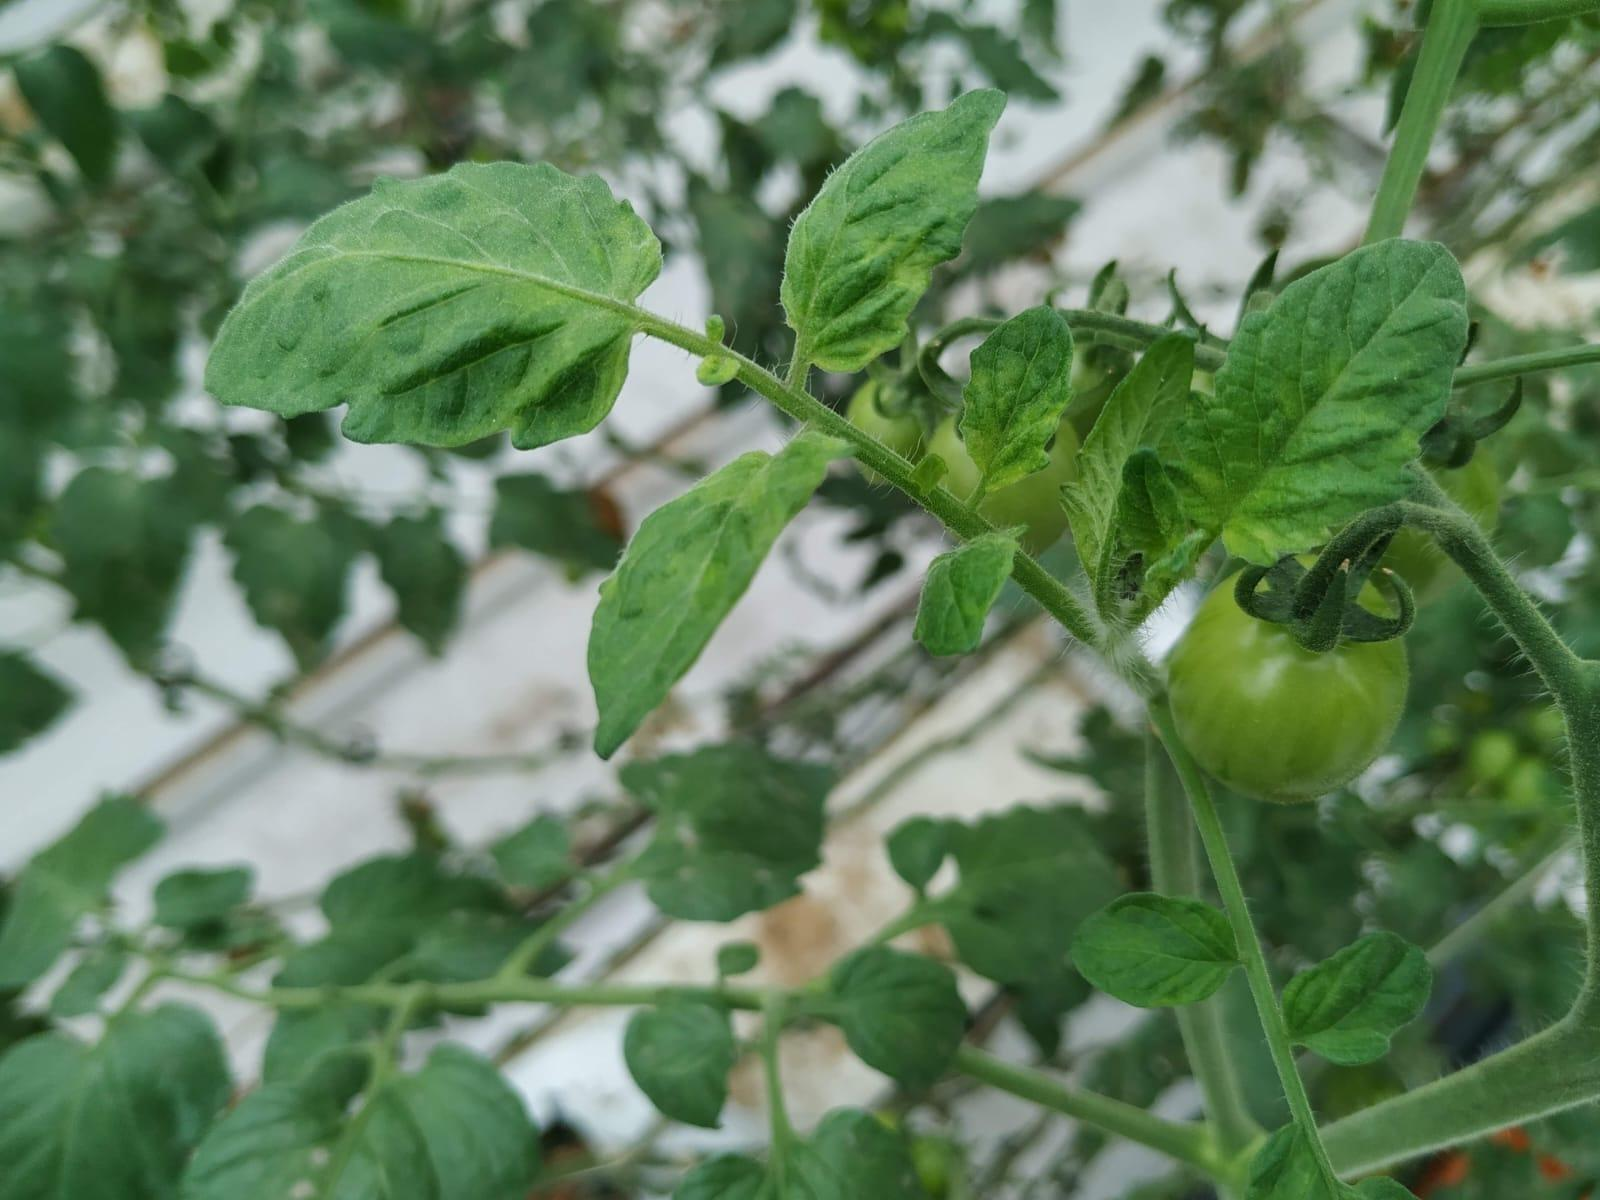Rugose leaf: (204, 159, 659, 446), (1178, 237, 1469, 566), (781, 87, 1005, 386), (960, 306, 1072, 507)
Rugose stem: (1146, 693, 1351, 1197), (737, 361, 990, 541), (1013, 553, 1106, 647)
Rugose tomato: (1170, 576, 1410, 803)
